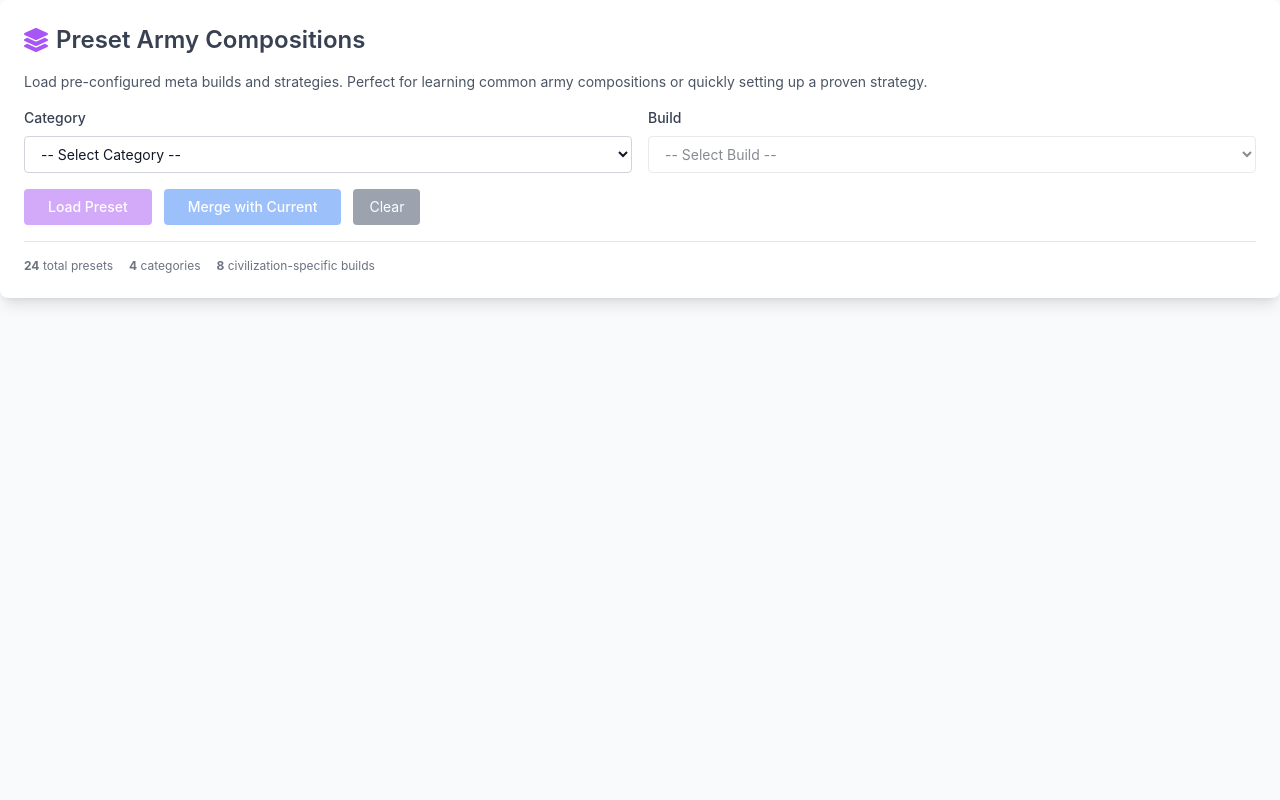
Test: PresetSelector › loading presets › should show success message when preset is loaded
Select "Beginner Templates" in the dropdown labelled "Category": (328, 154) [24,136,632,173]
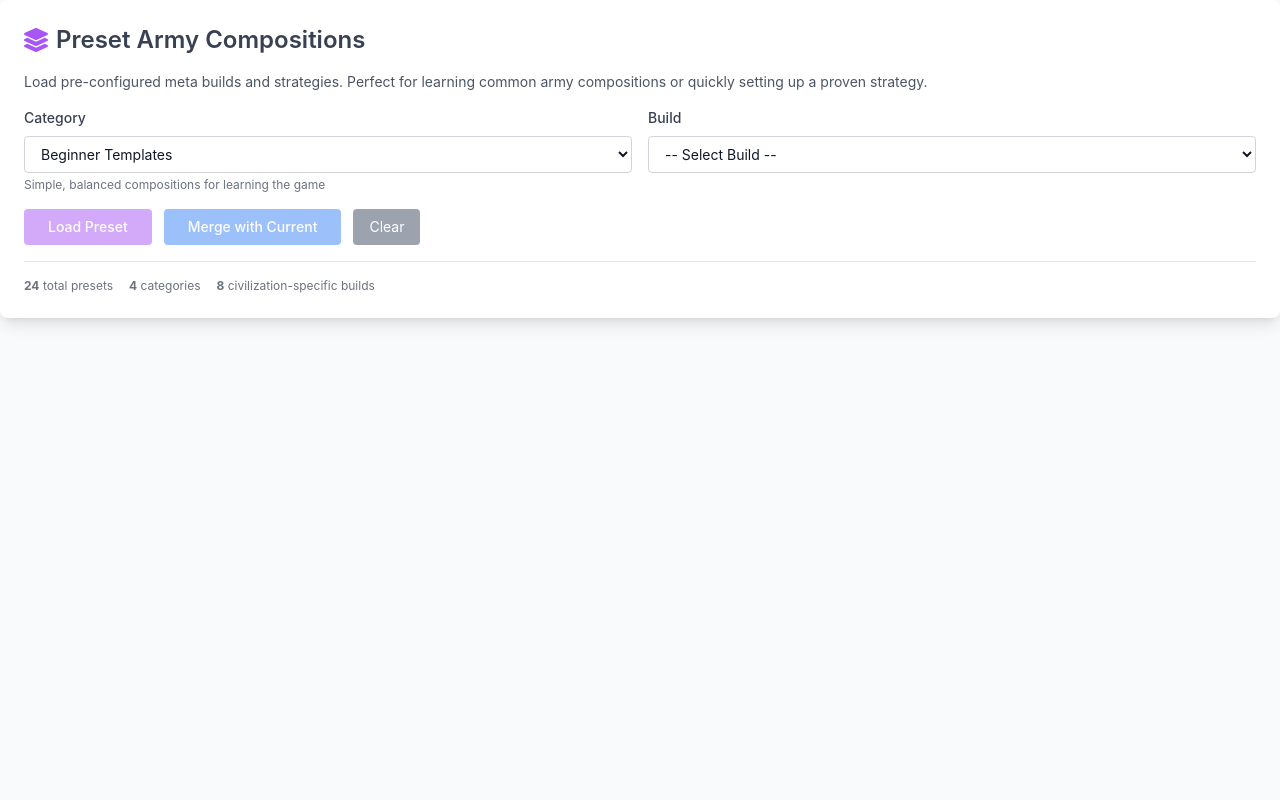
Select "Trash Army (No Gold)" in the dropdown labelled "Build": (952, 154) [648,136,1256,173]
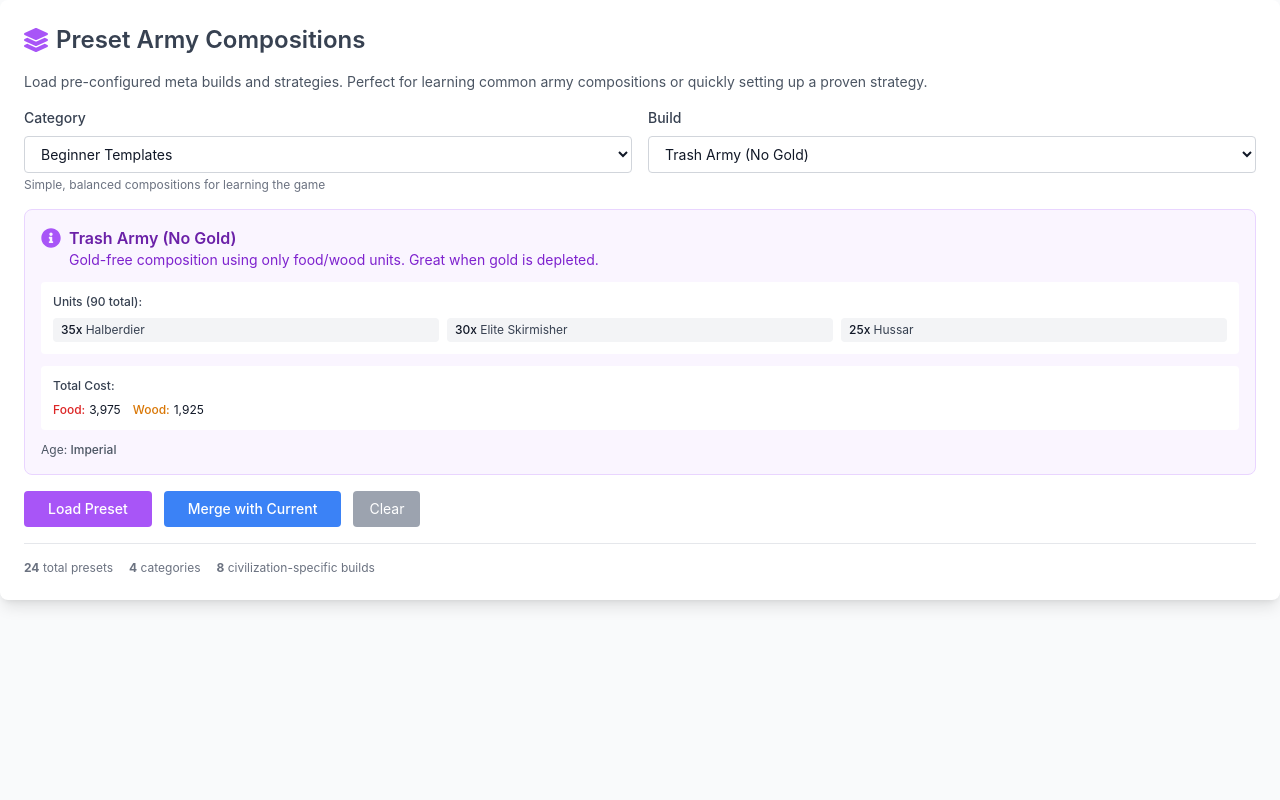
Click the button "Load Preset": (88, 509) [24,491,152,527]
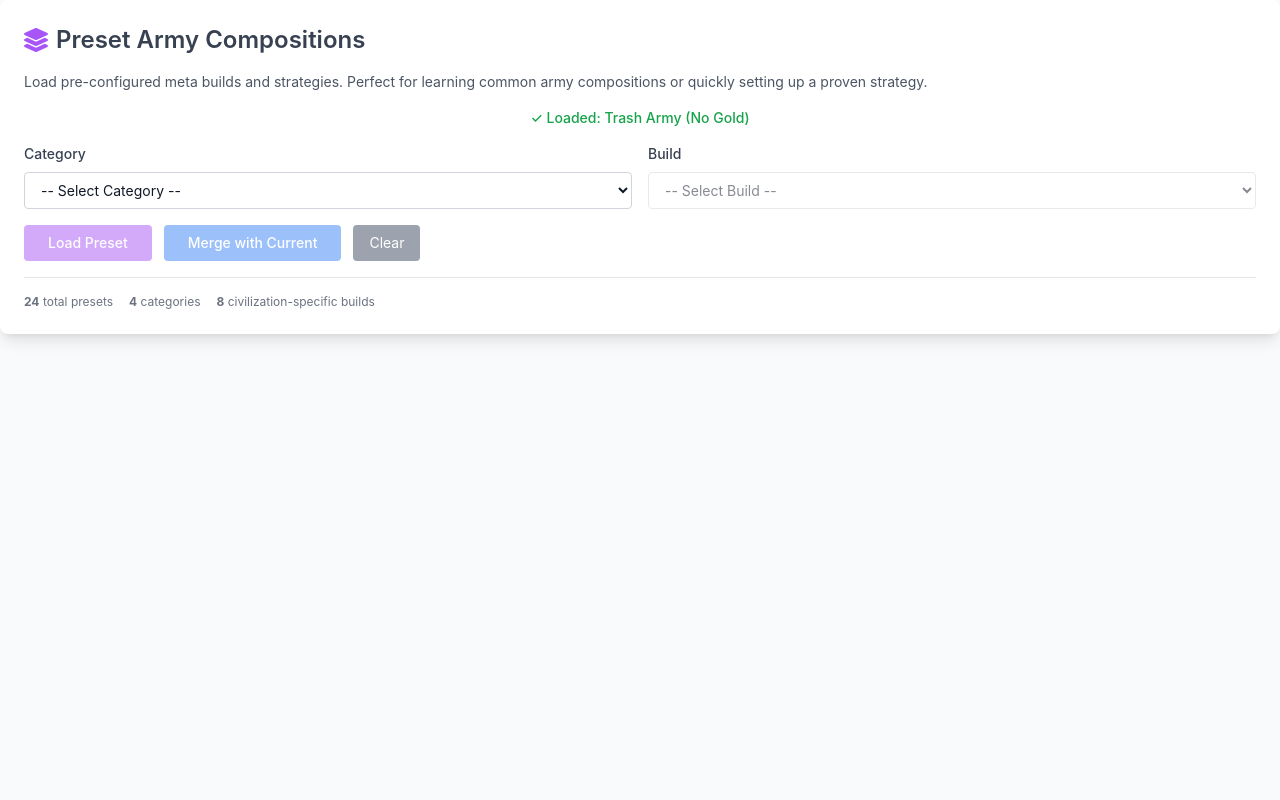
Expected: the text "✓ Loaded: Trash Army (No Gold)" is shown, [530,109,750,126]
